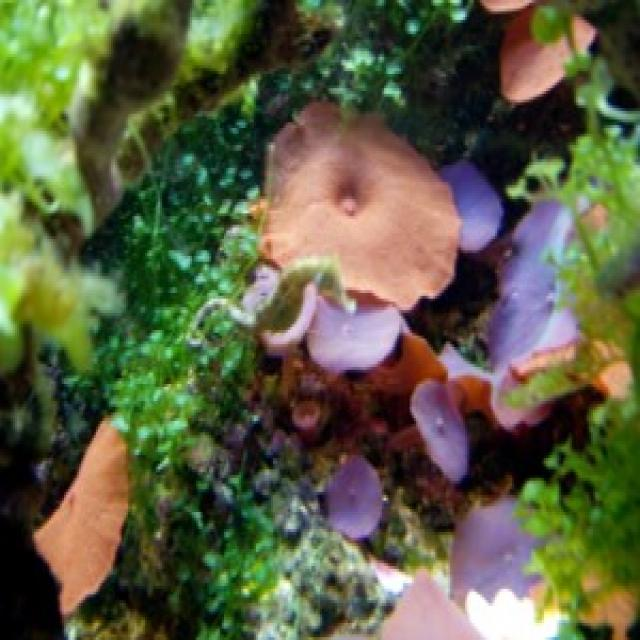Seahorse: (179, 244, 359, 354)
